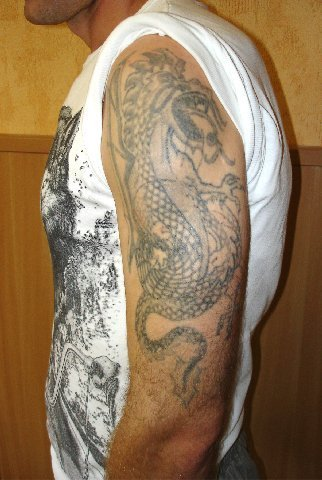tatu6_drakon: (105, 40, 258, 416)
